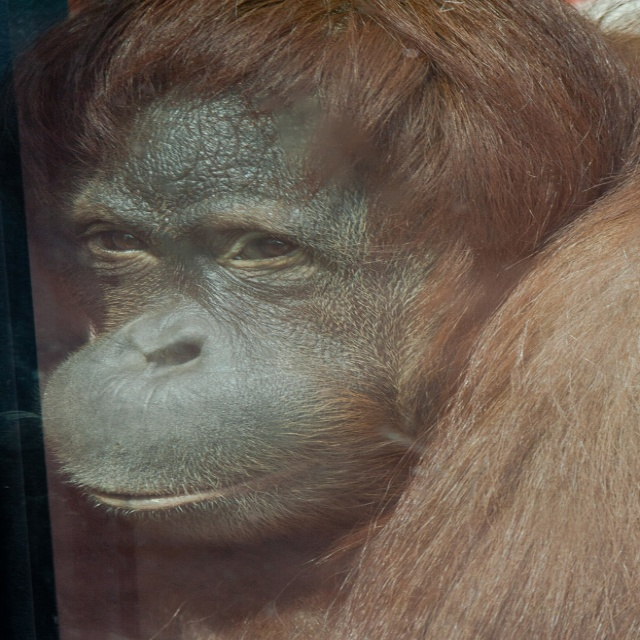Monkey: (22, 0, 633, 640)
